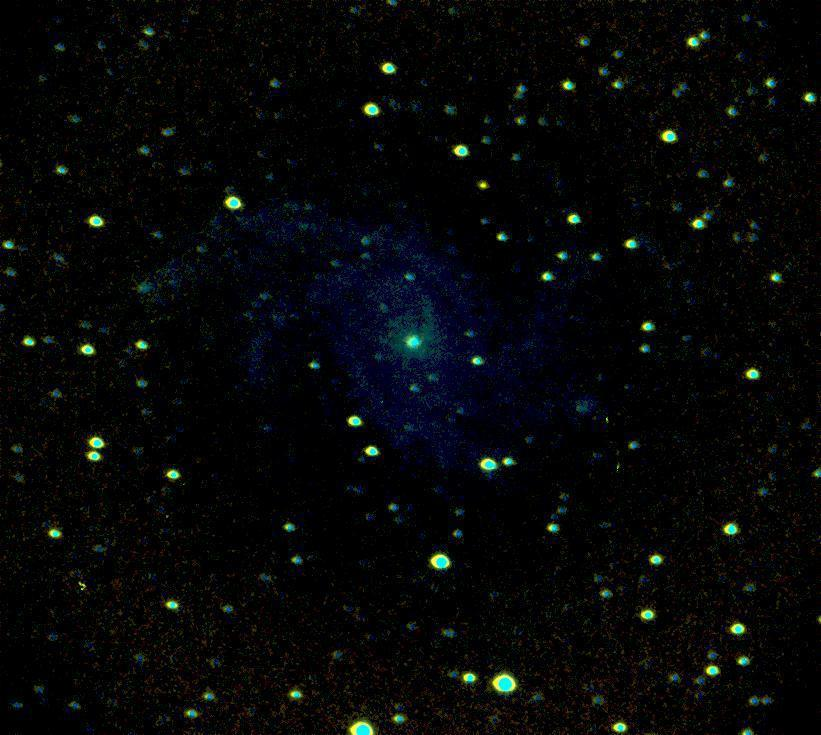star: (469, 172, 499, 202)
